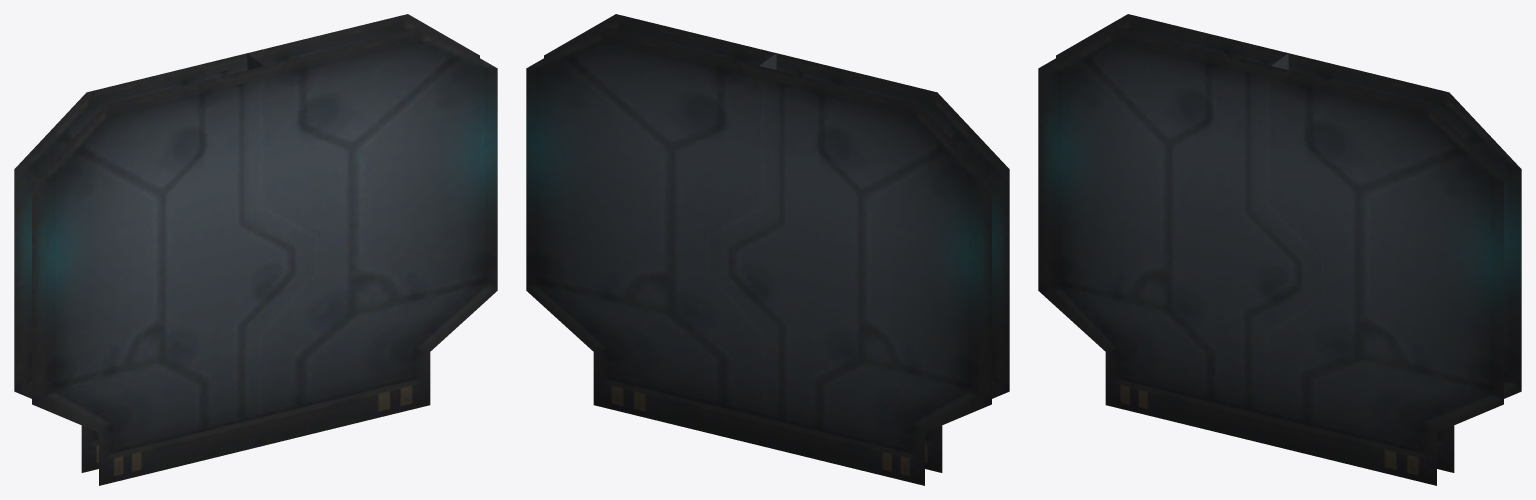
The model's file is Object002_76ed58bf__ZombiesII_laboratory_04_d_1b2a1172_c1f257.obj.
The picture shows the model from 3 angles, left to right: view 1: azimuth 30°, elevation 25°; view 2: azimuth 150°, elevation 25°; view 3: azimuth 330°, elevation 25°; orthographic projection.
Size of the model in its own units: 7.59 by 5.91 by 0.4939.
Materials: 1 (1 with a texture image).
